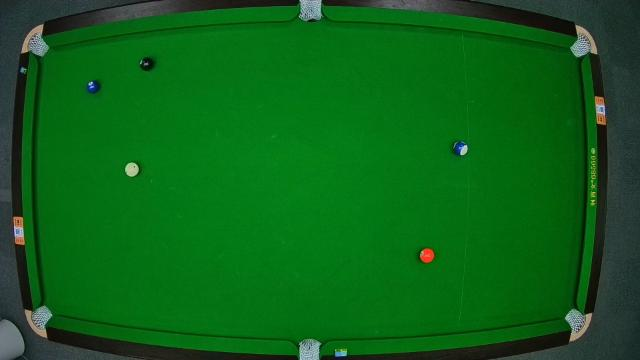bag1: (26, 36, 46, 58)
bag2: (299, 1, 321, 22)
bag3: (574, 37, 594, 55)
bag4: (32, 306, 50, 328)
bag5: (298, 340, 320, 360)
bag6: (566, 312, 586, 332)
ball0: (124, 162, 140, 178)
ball10: (452, 141, 468, 157)
ball2: (86, 80, 100, 94)
ball5: (419, 248, 435, 264)
ball8: (139, 56, 155, 72)
